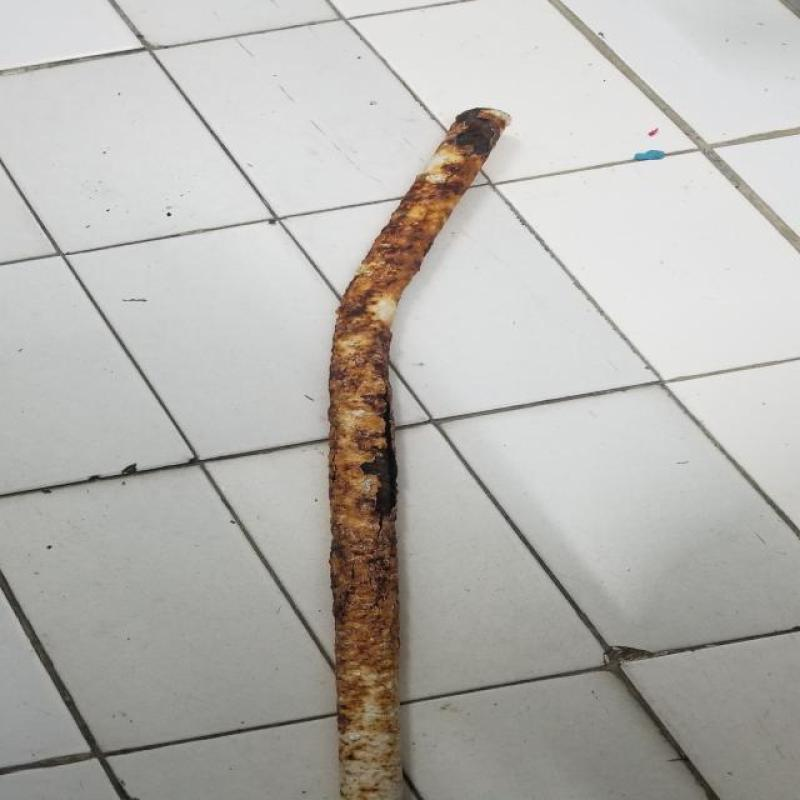Fracture: (312, 70, 422, 742)
